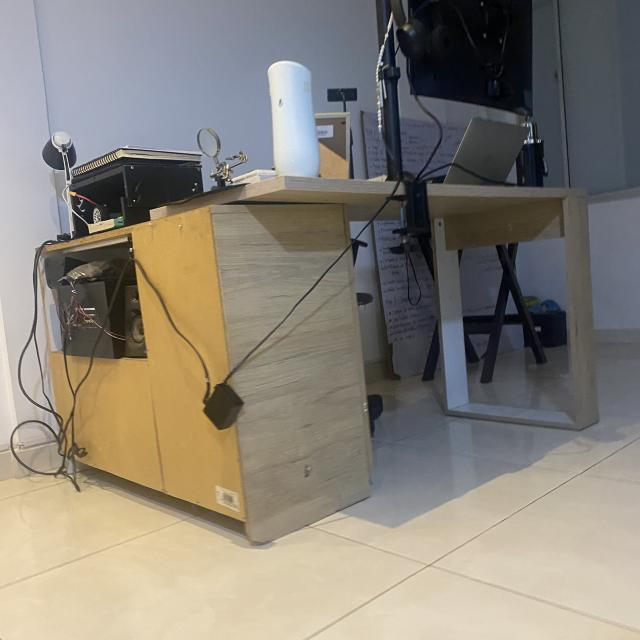obstacle: (34, 155, 600, 550)
